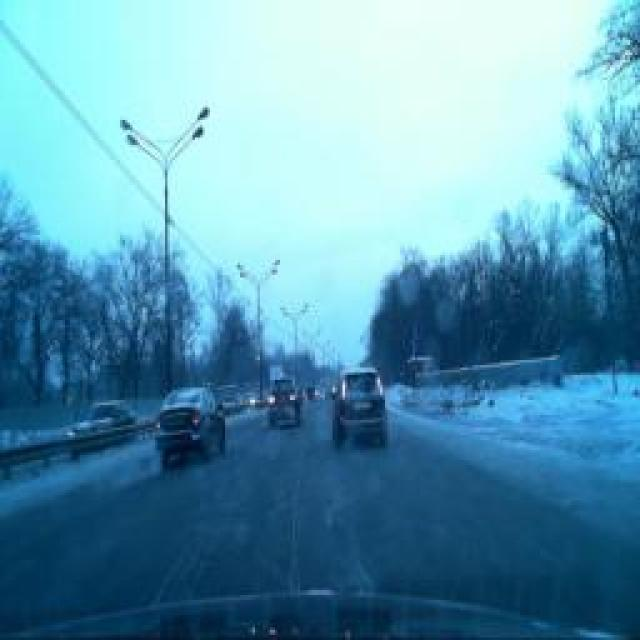sign: (410, 322, 420, 342)
